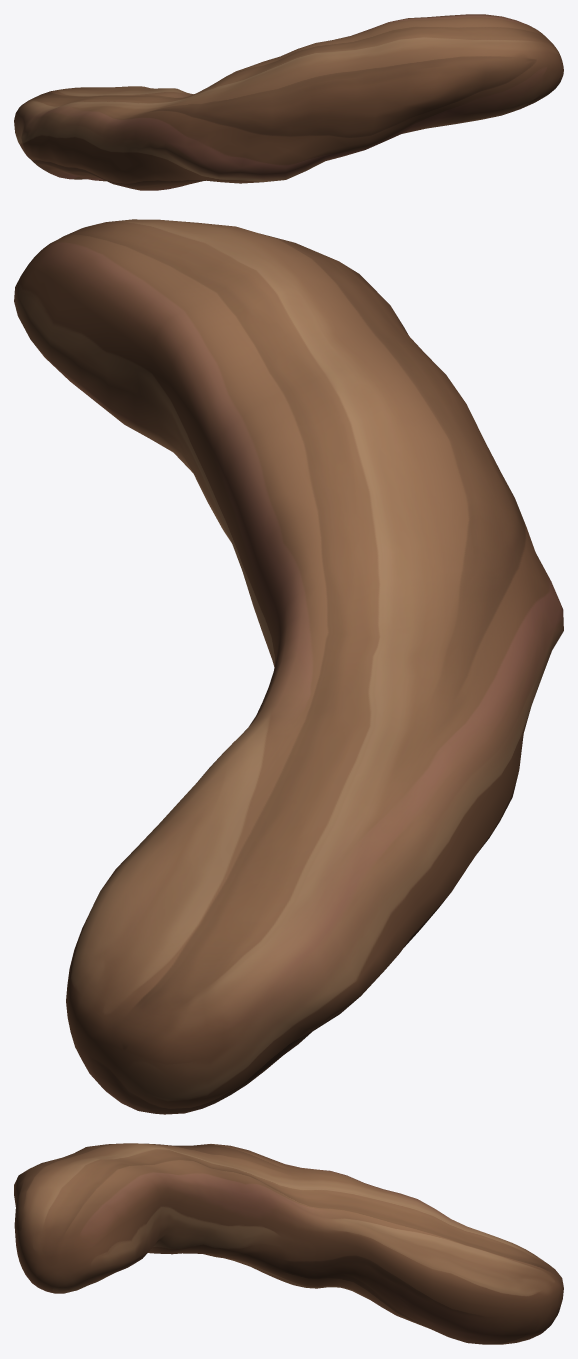
Rendered from AngelCurvedRamp.fbx.
3 renders of one model, top to bottom at view 1: azimuth 30°, elevation 25°; view 2: azimuth 150°, elevation 25°; view 3: azimuth 270°, elevation 25°, orthographic. The views are drawn at different scales.
Visible parts, largest first — view 1: AngelCurvedRamp; view 2: AngelCurvedRamp; view 3: AngelCurvedRamp.
Boxes of the visible parts, box(x1,y1,x2,y2) form: AngelCurvedRamp: box(14, 14, 563, 190); AngelCurvedRamp: box(14, 219, 563, 1114); AngelCurvedRamp: box(14, 1143, 563, 1344).
Bounding box in the file's own units: 311 × 201 × 396.
1 material, 1 textured.
